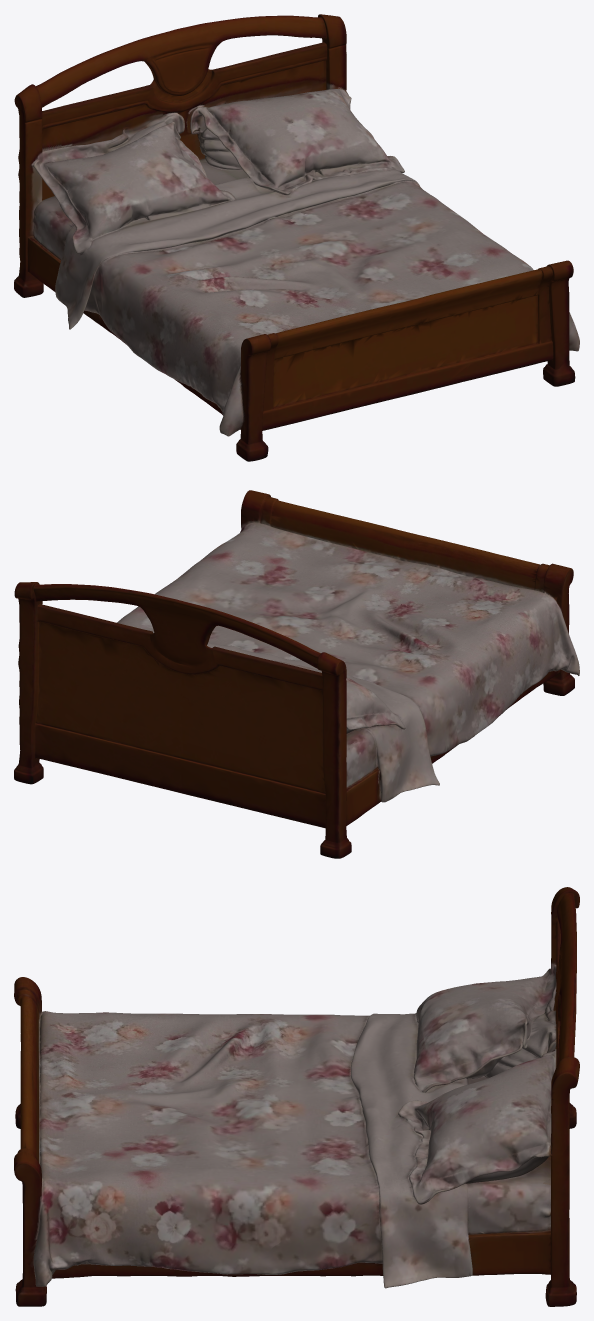
File: bed.glb
3 views of the same model, one above another, from view 1: azimuth 30°, elevation 25°; view 2: azimuth 150°, elevation 25°; view 3: azimuth 270°, elevation 25° (orthographic). The views are drawn at different scales.
Visible parts, largest first — view 1: tripo_node_fe72f188-b5e8-498d-8f1d-f32ed48418b1; view 2: tripo_node_fe72f188-b5e8-498d-8f1d-f32ed48418b1; view 3: tripo_node_fe72f188-b5e8-498d-8f1d-f32ed48418b1.
Boxes of the visible parts, x1=… form: tripo_node_fe72f188-b5e8-498d-8f1d-f32ed48418b1: x1=14, y1=14, x2=579, y2=461; tripo_node_fe72f188-b5e8-498d-8f1d-f32ed48418b1: x1=14, y1=490, x2=579, y2=858; tripo_node_fe72f188-b5e8-498d-8f1d-f32ed48418b1: x1=14, y1=887, x2=579, y2=1306.
Size of the model in its own units: 0.8933 by 0.5095 by 1.
Materials: 1 (1 with a texture image).
